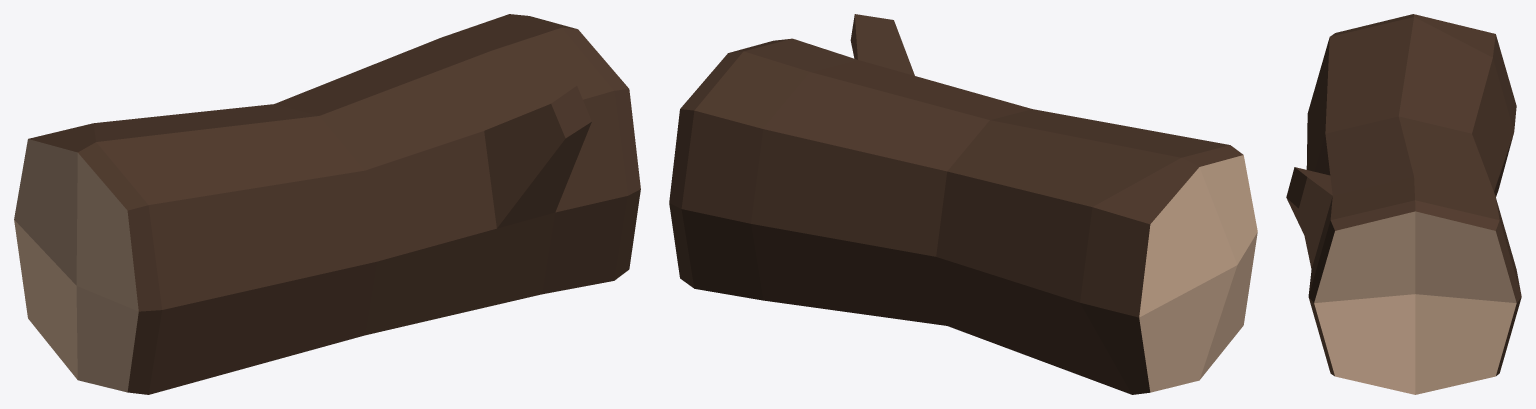
Rendered from Wood.fbx.
3 views of the same model, side by side, from view 1: azimuth 30°, elevation 25°; view 2: azimuth 150°, elevation 25°; view 3: azimuth 270°, elevation 25° (orthographic). The views are drawn at different scales.
Parts seen in each view (by area): view 1: Wood; view 2: Wood; view 3: Wood.
Boxes of the visible parts, <box> form: Wood: <box>14,14,640,394</box>; Wood: <box>669,14,1257,394</box>; Wood: <box>1286,14,1521,394</box>.
Size of the model in its own units: 40.17 by 17.82 by 19.4.
